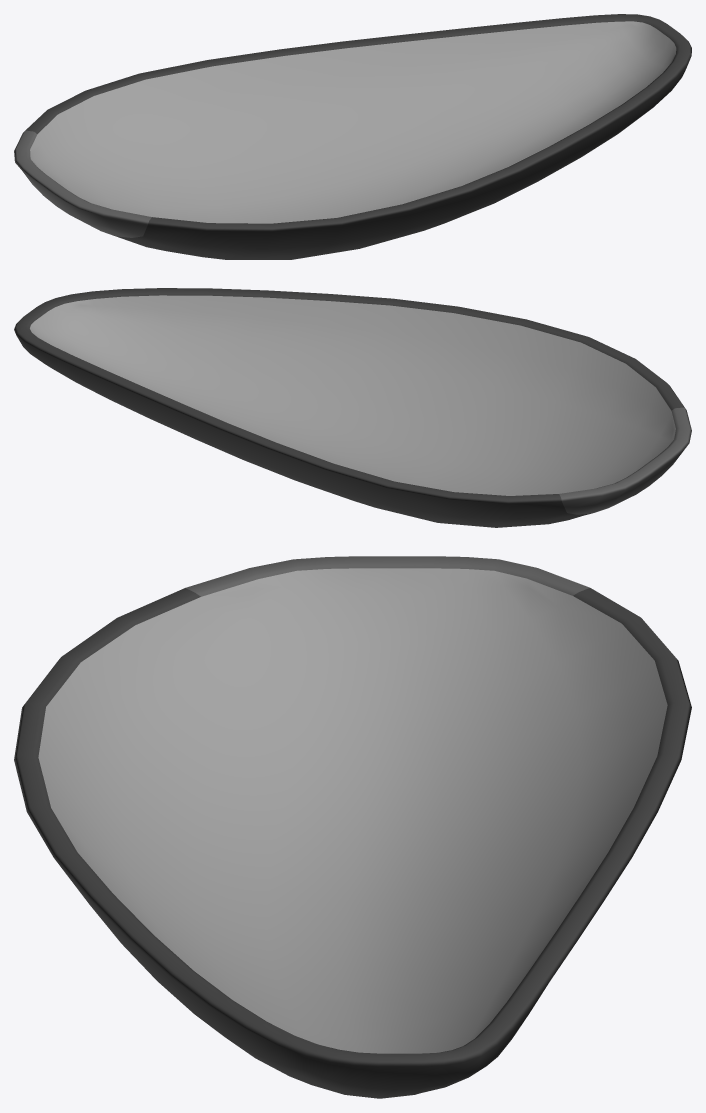
The model's file is Mussel_Empty_2.fbx.
3 views of the same model, one above another, from view 1: azimuth 30°, elevation 25°; view 2: azimuth 150°, elevation 25°; view 3: azimuth 270°, elevation 25° (orthographic). The views are drawn at different scales.
Visible parts, largest first — view 1: Mussel_Empty_2; view 2: Mussel_Empty_2; view 3: Mussel_Empty_2.
Part boxes in pixels (x1,y1,x2,y2): Mussel_Empty_2: [14, 14, 691, 259]; Mussel_Empty_2: [14, 288, 691, 527]; Mussel_Empty_2: [14, 556, 691, 1098].
Size of the model in its own units: 8.64 by 1.34 by 4.88.
